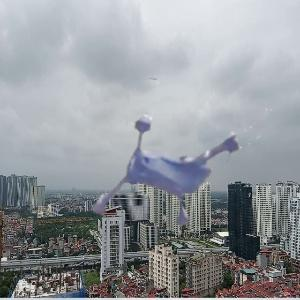drone: (95, 67, 272, 244)
